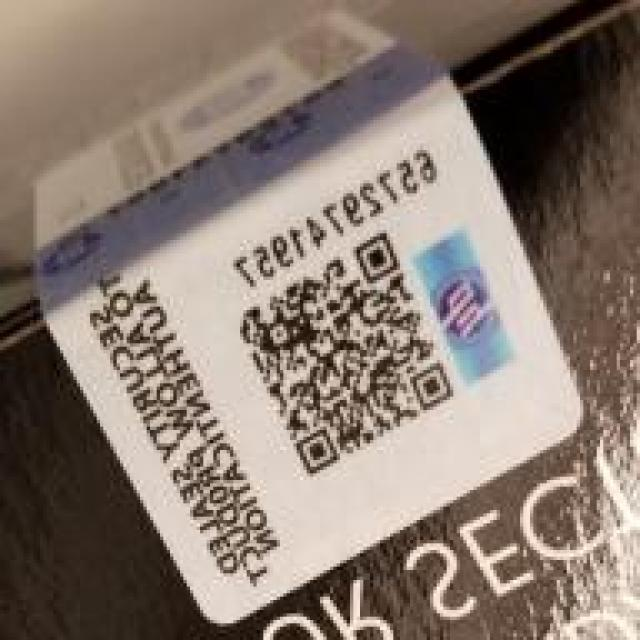qr_code: (238, 232, 455, 475)
